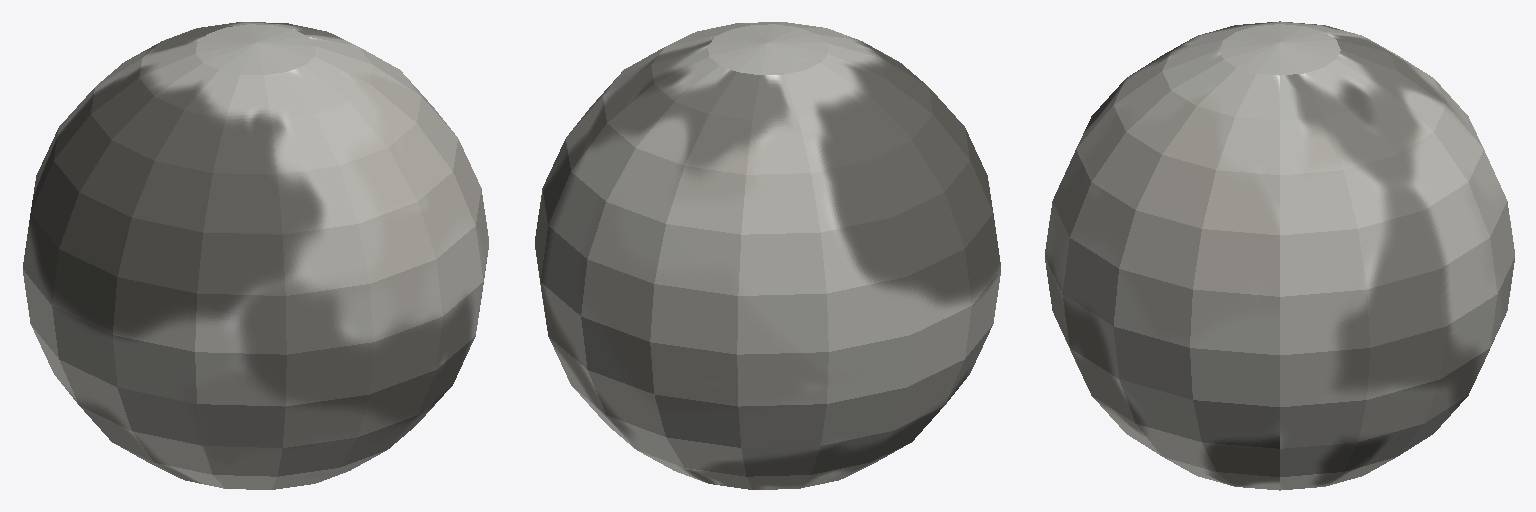
3 renders of one model, left to right at view 1: azimuth 30°, elevation 25°; view 2: azimuth 150°, elevation 25°; view 3: azimuth 270°, elevation 25°, orthographic.
Parts seen in each view (by area): view 1: 球; view 2: 球; view 3: 球.
Boxes of the visible parts, x1,y1,x2,y2 form: 球: [23, 22, 488, 489]; 球: [535, 22, 1000, 489]; 球: [1045, 21, 1514, 490].
Bounding box in the file's own units: 0.54 × 0.54 × 0.54.
Materials: 1 (1 with a texture image).